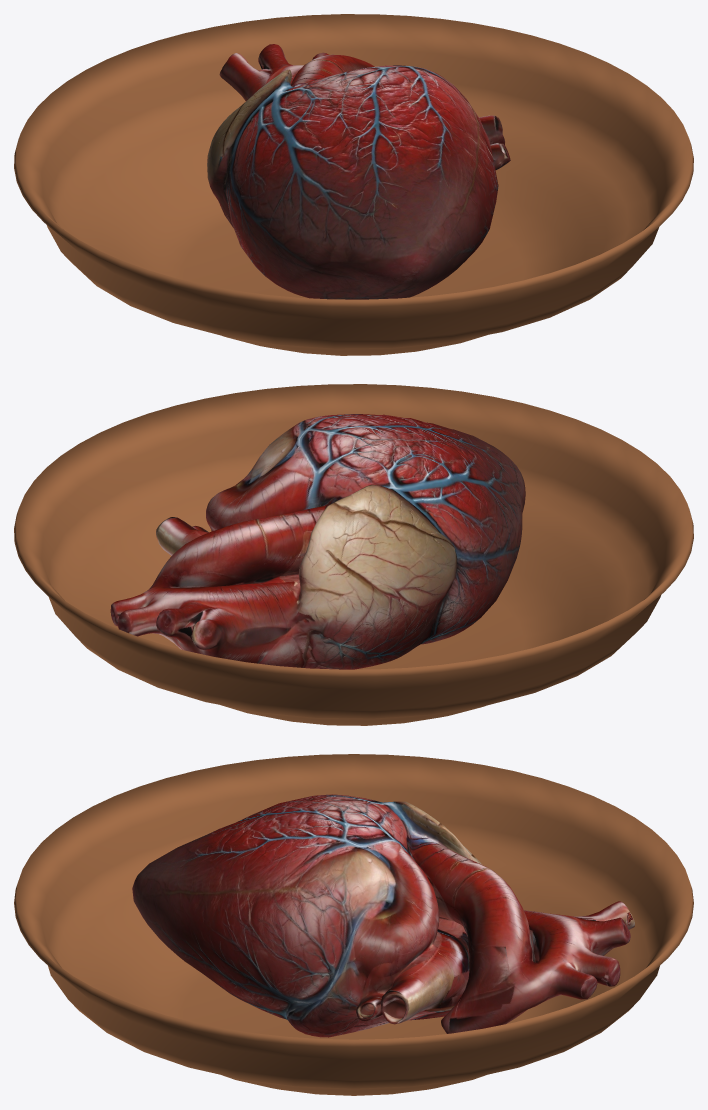
File: heart.glb
3 views of the same model, one above another, from view 1: azimuth 30°, elevation 25°; view 2: azimuth 150°, elevation 25°; view 3: azimuth 270°, elevation 25° (orthographic).
Visible parts, largest first — view 1: plate; view 2: plate; view 3: plate.
Part boxes in pixels (x1,y1,x2,y2): plate: [14, 14, 693, 355]; plate: [14, 384, 693, 725]; plate: [14, 754, 693, 1095].
Size of what is drawn, in the model's own units: 0.542 by 0.1835 by 0.542.
2 materials, 1 textured.
